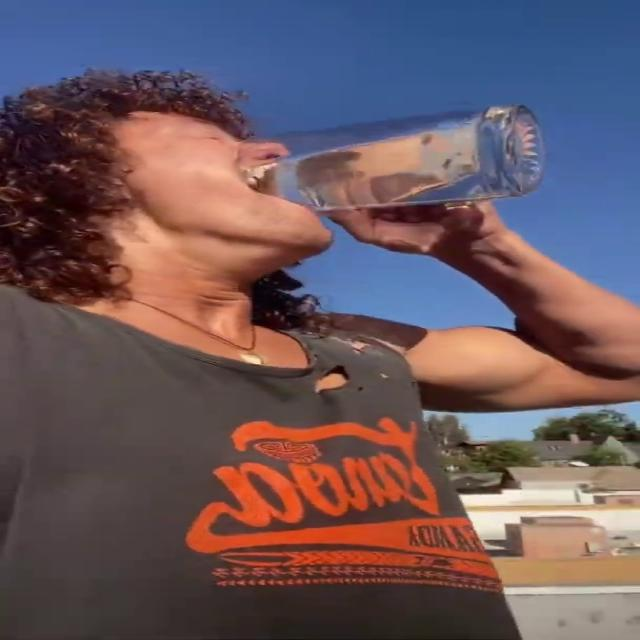Cup: (223, 102, 550, 210)
Hand: (313, 165, 501, 253)
Mouth: (213, 163, 319, 212)
